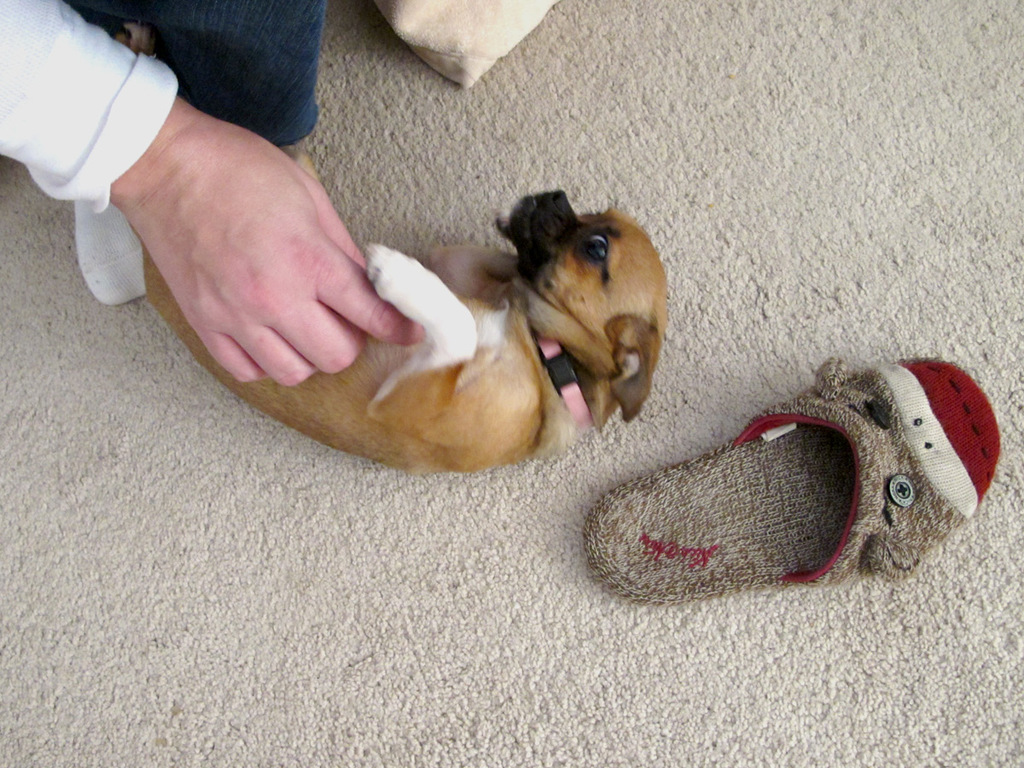Footwear: (572, 361, 980, 611)
